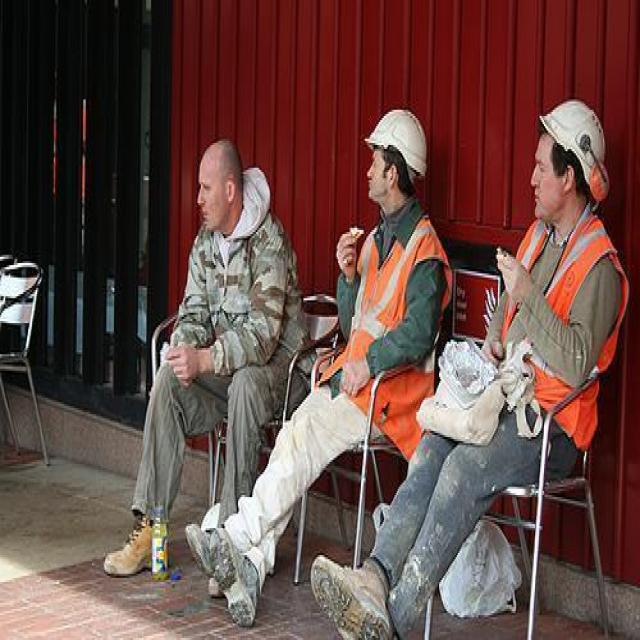vest: (503, 216, 629, 444), (342, 215, 456, 456)
